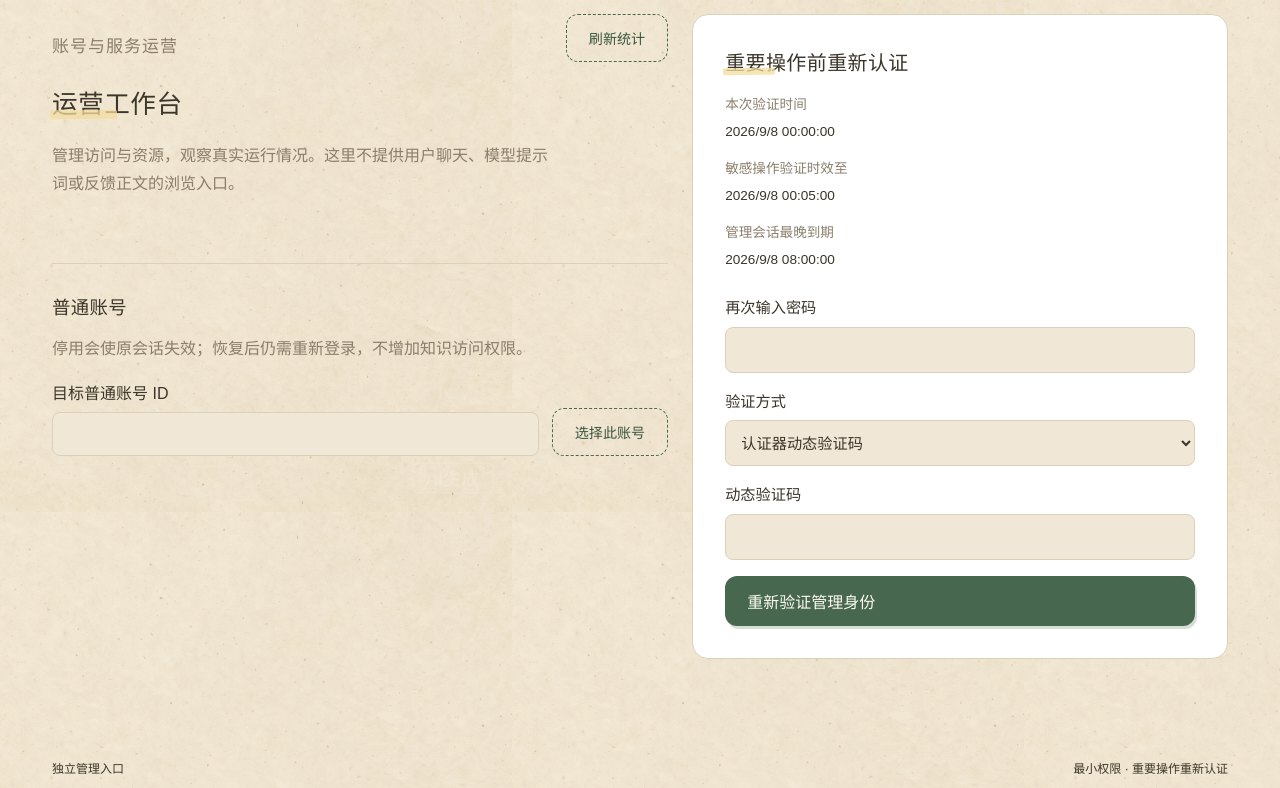
Test: 只有额度权限可手动指定UUID，不查询账号和其他统计
(page scrolled)
Expected: the heading "运营工作台" is shown, [52,90,182,119]
Step 1. Type "00000000-0000-0000-0000-000000000002" into the field labelled "目标普通账号 ID" → (296, 434), box [52,412,539,456]
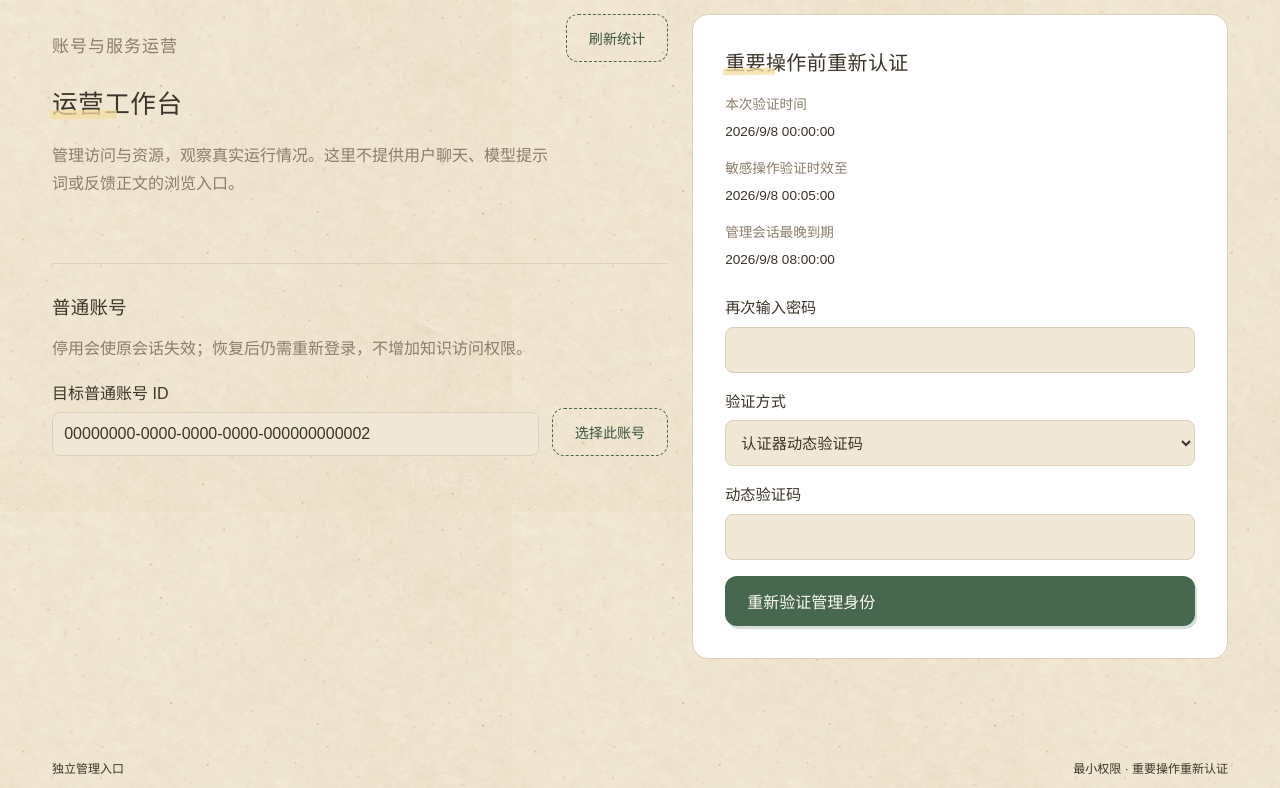
Step 2. Click the button "选择此账号" → (610, 432), box [552,408,668,456]
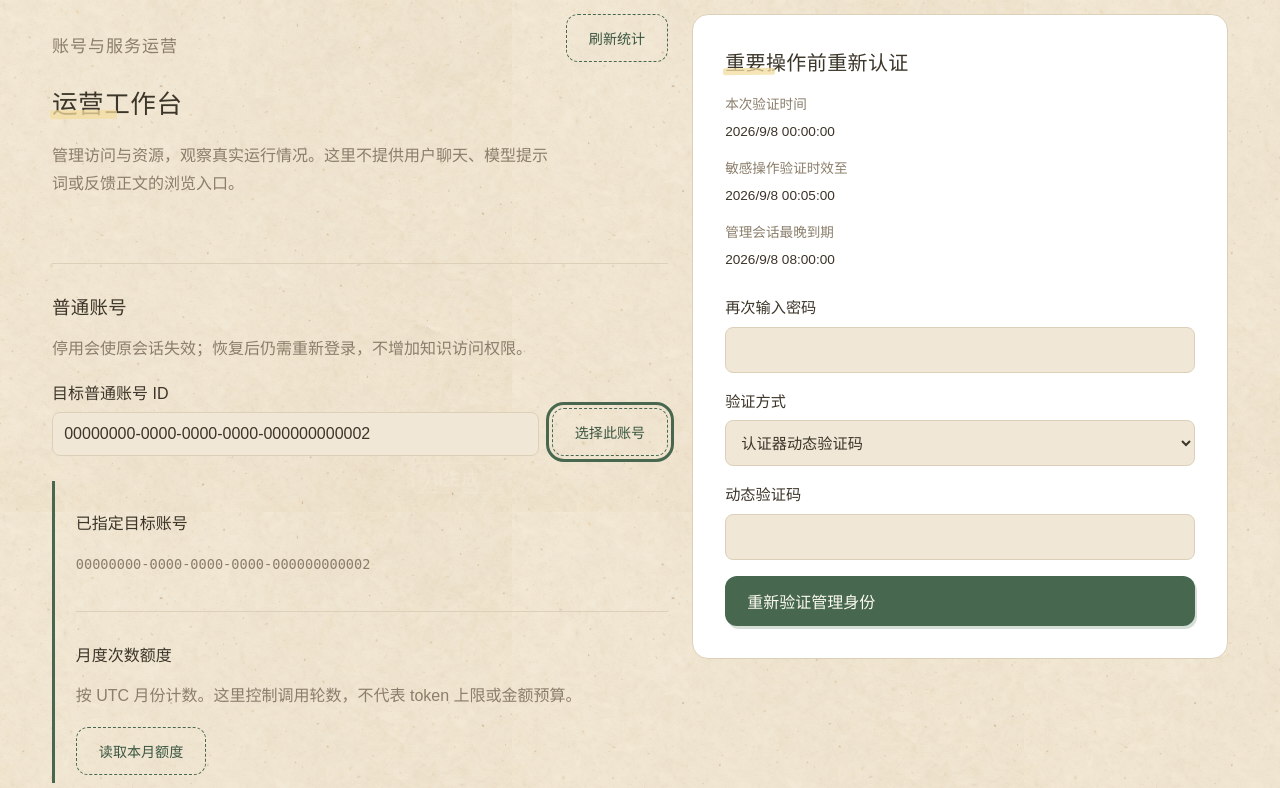
Step 3. Click the button "读取本月额度" → (141, 751), box [76,727,206,775]
(page scrolled)
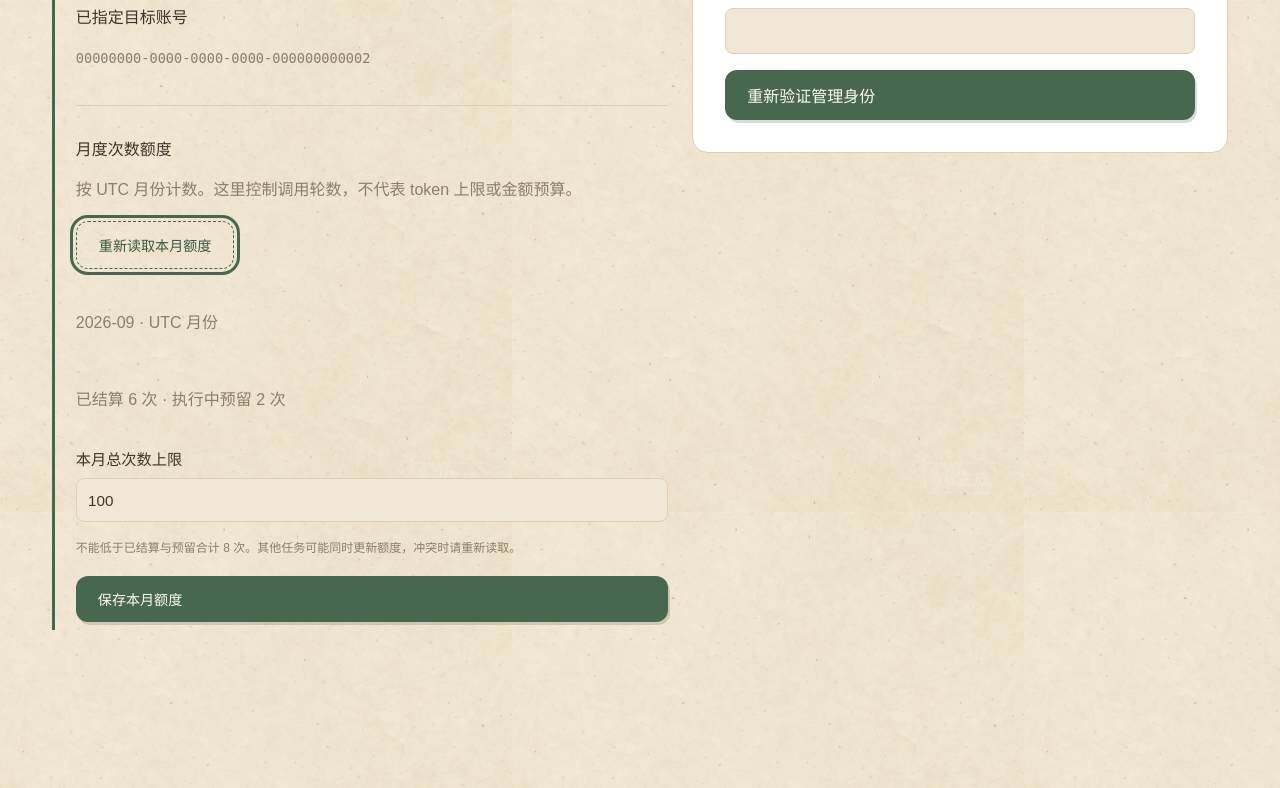
Result: the text "已结算 6 次 · 执行中预留 2 次" is shown at [76,391,286,408]
